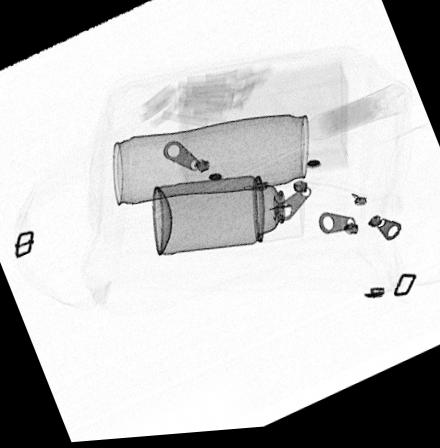Sprayer: (152, 177, 303, 257)
